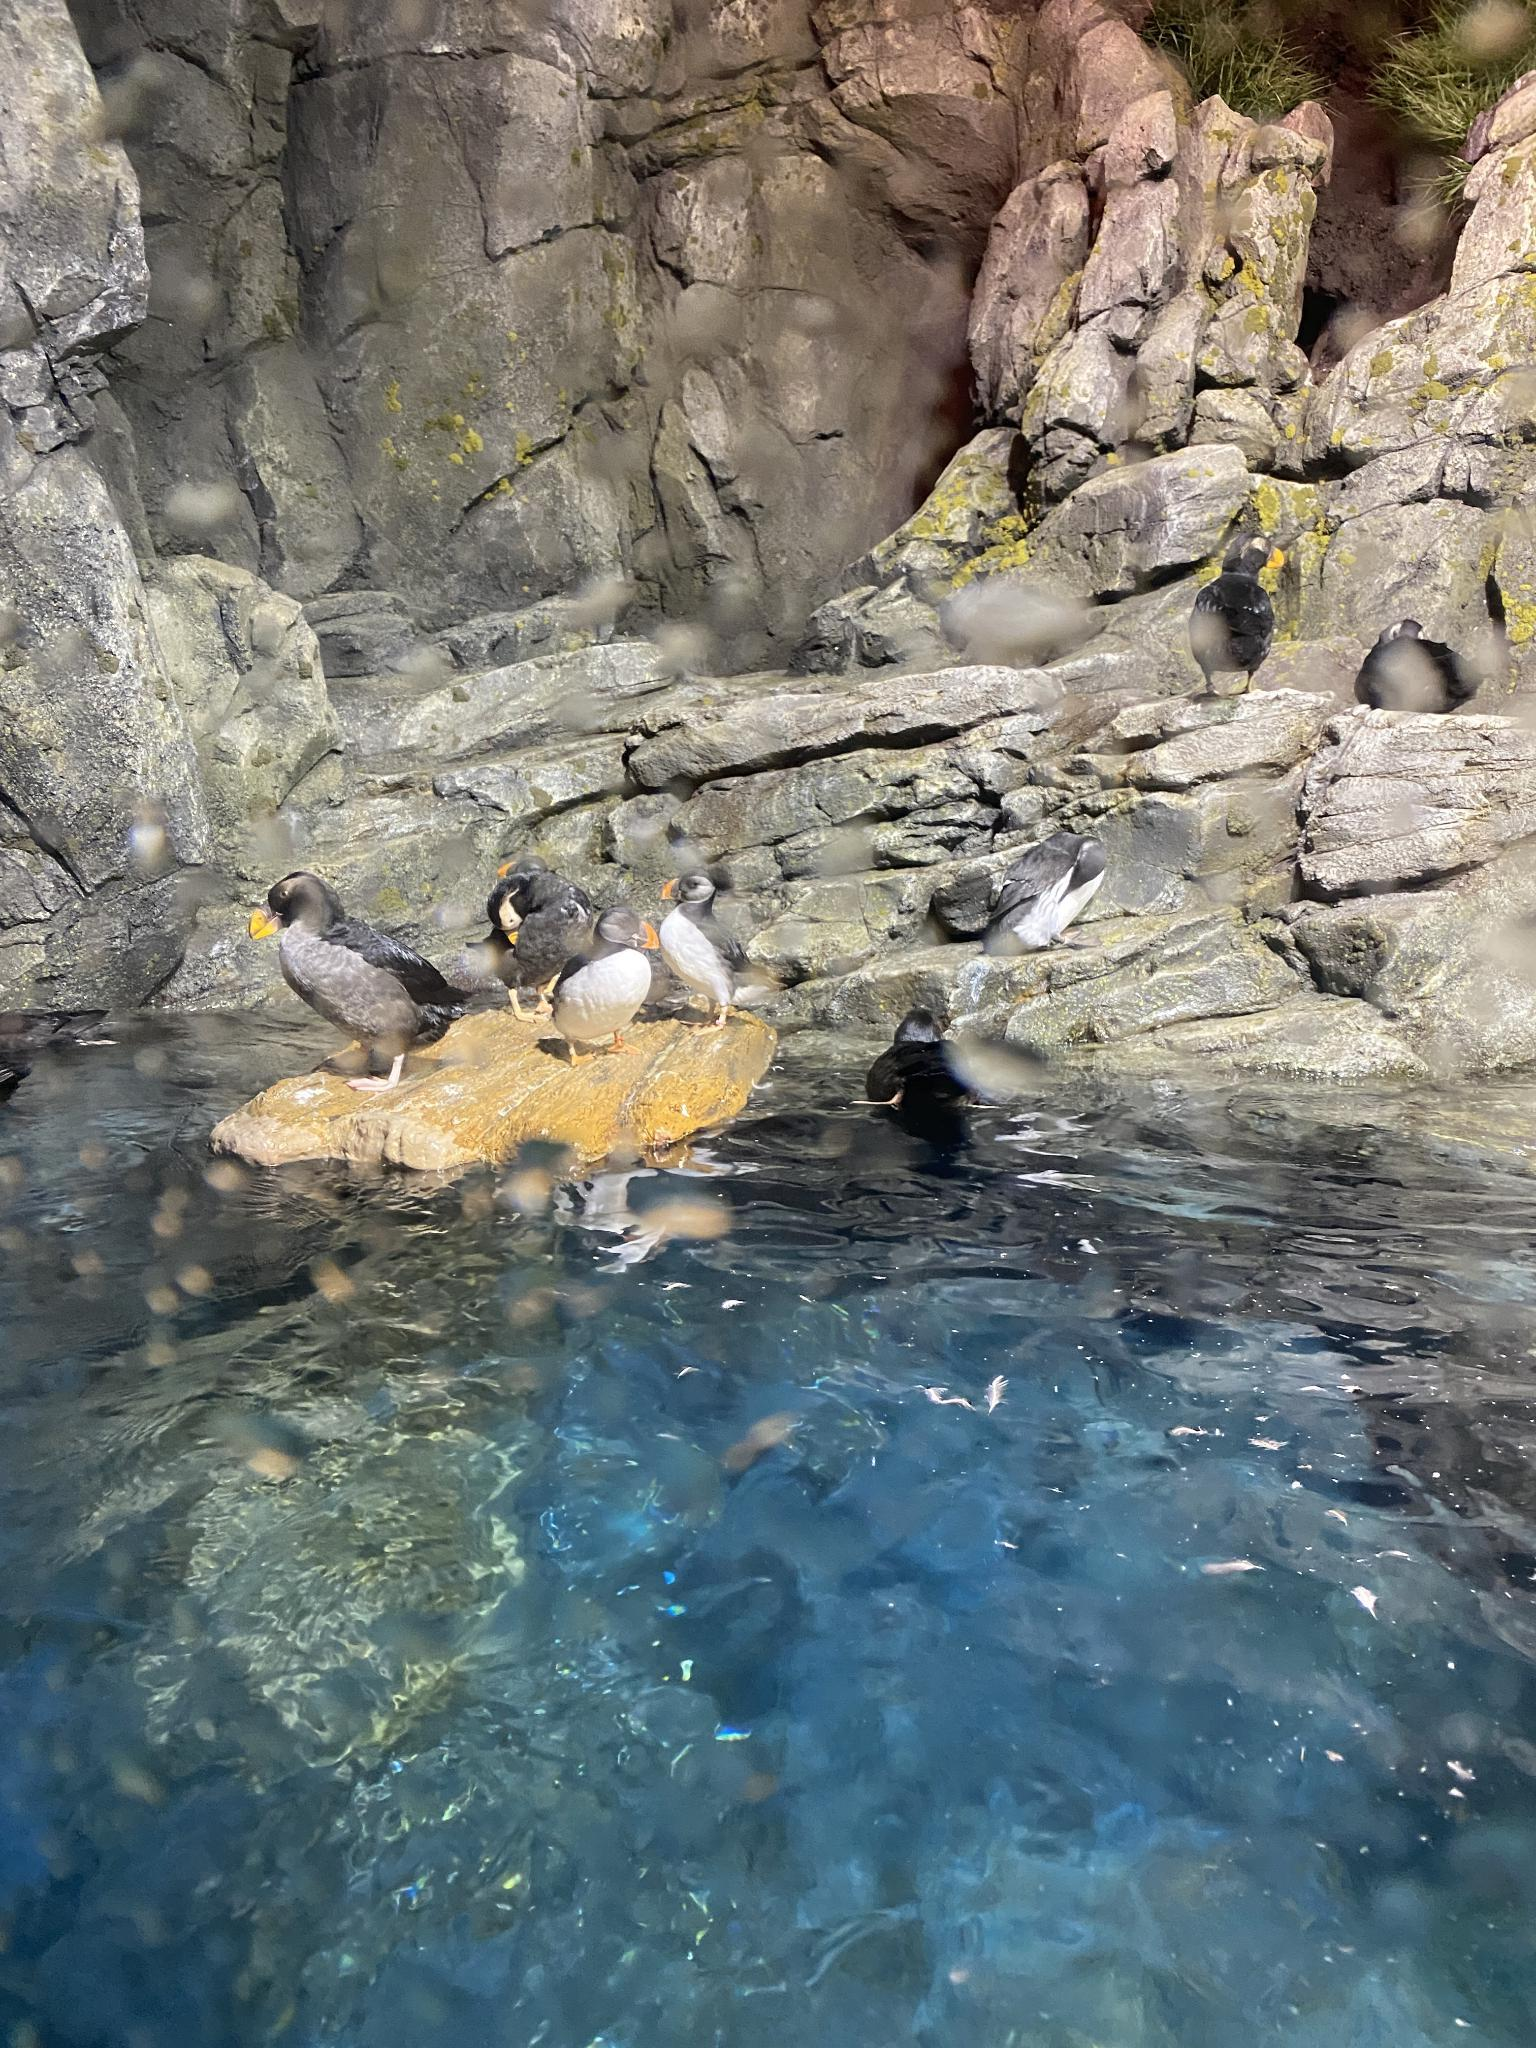puffin: (248, 871, 465, 1095), (934, 826, 1118, 968), (658, 877, 783, 1034), (862, 1006, 983, 1151), (552, 910, 658, 1069), (1194, 526, 1284, 705), (486, 868, 587, 1021), (1362, 611, 1483, 727)
